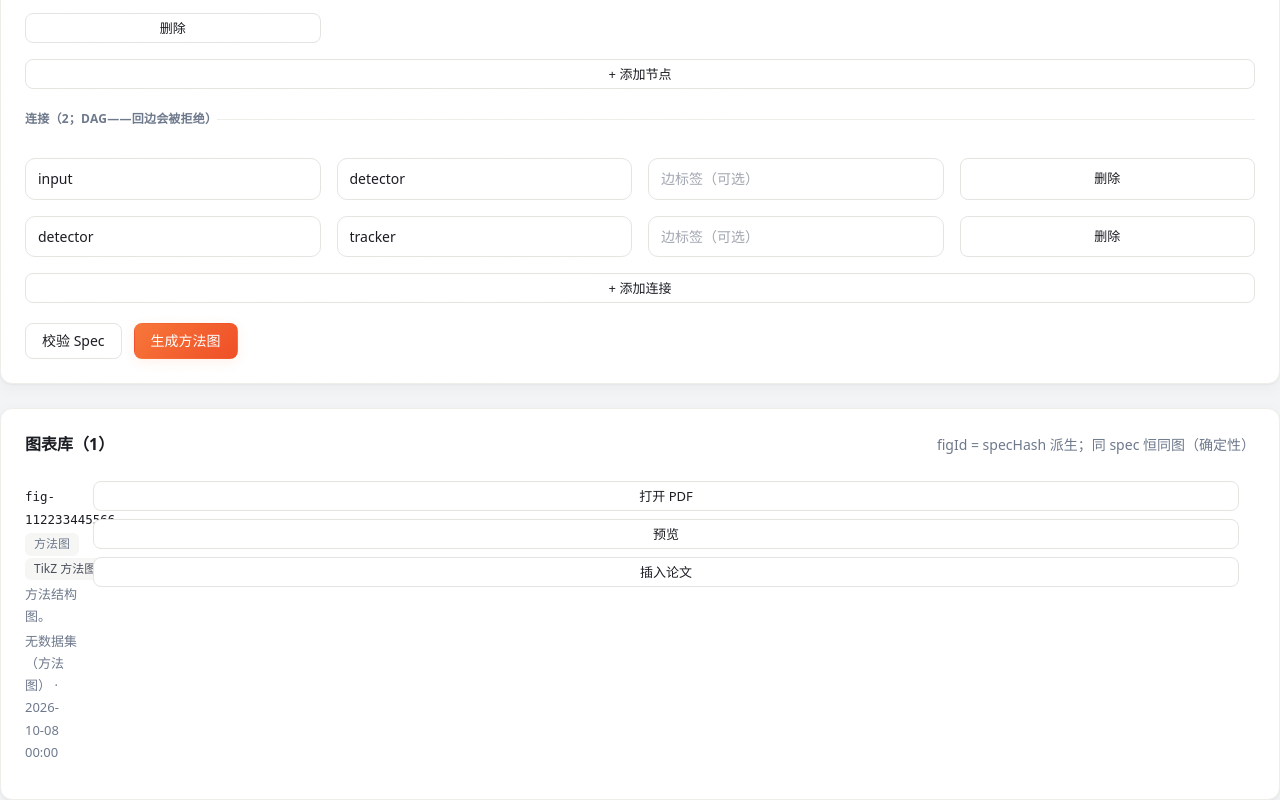
Test: FiguresPanel › 已有论文项目：插入表单呈 replace 语义 + 边界提示
(page scrolled)
Click the button with test id "figure-insert-toggle-fig-112233445566" at (666, 572), box [93,557,1239,587]
(page scrolled)
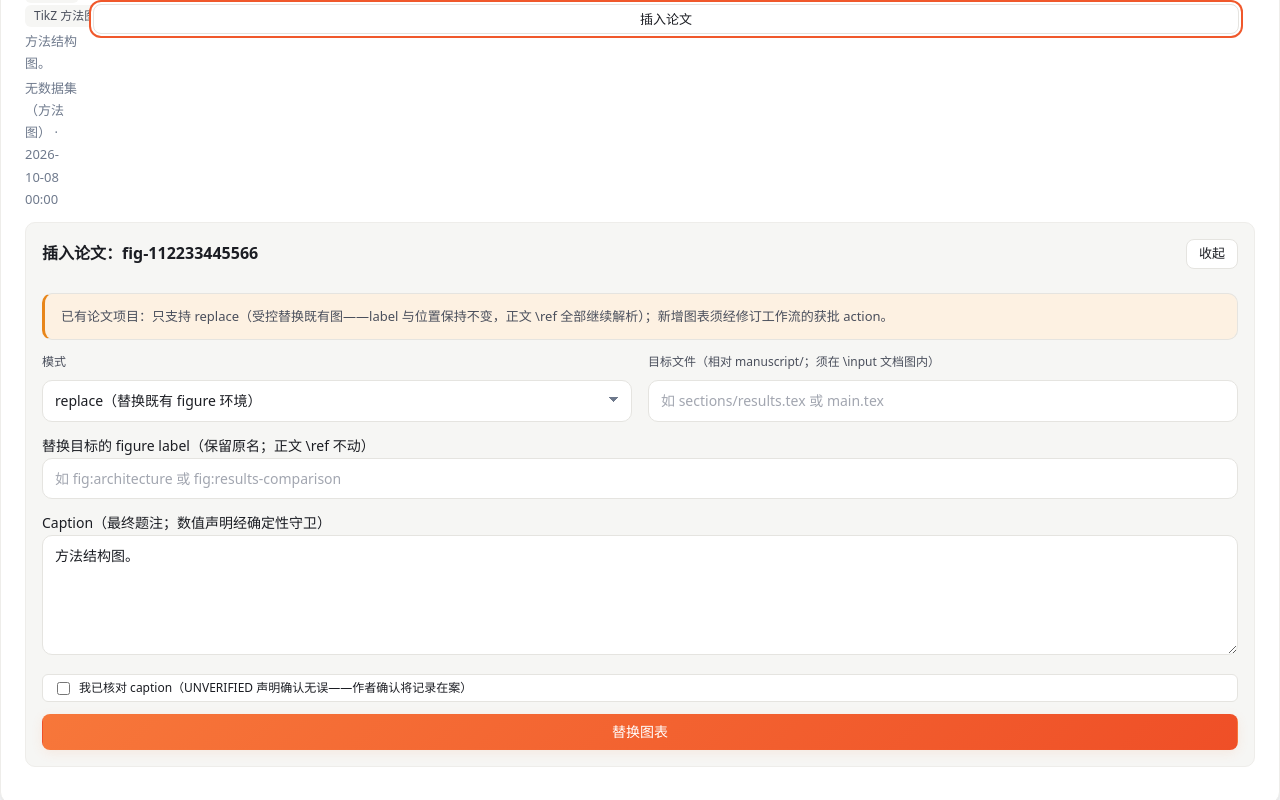
Check: the dropdown with test id "insert-mode" shows "replace（替换既有 figure 环境）", box [42,380,632,422]
Check: the field with test id "insert-replace-label" is shown, box [42,458,1238,499]
Check: the field with test id "insert-file" is shown, box [648,380,1238,422]
